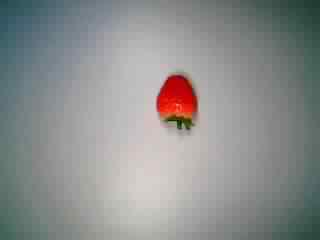strawberry: (146, 72, 214, 136)
